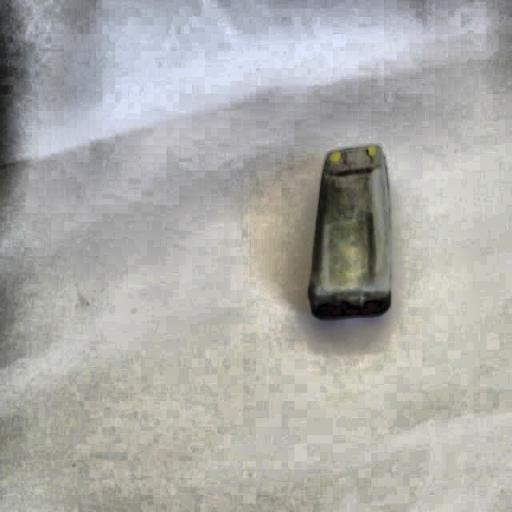normal_car: (300, 138, 396, 328)
